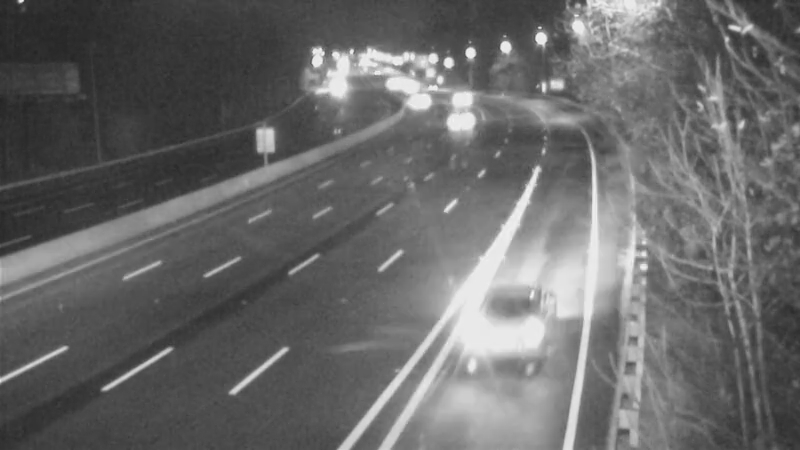vehicle: (451, 274, 561, 384), (408, 62, 458, 112), (440, 73, 490, 123), (391, 76, 441, 126), (431, 95, 481, 145)
